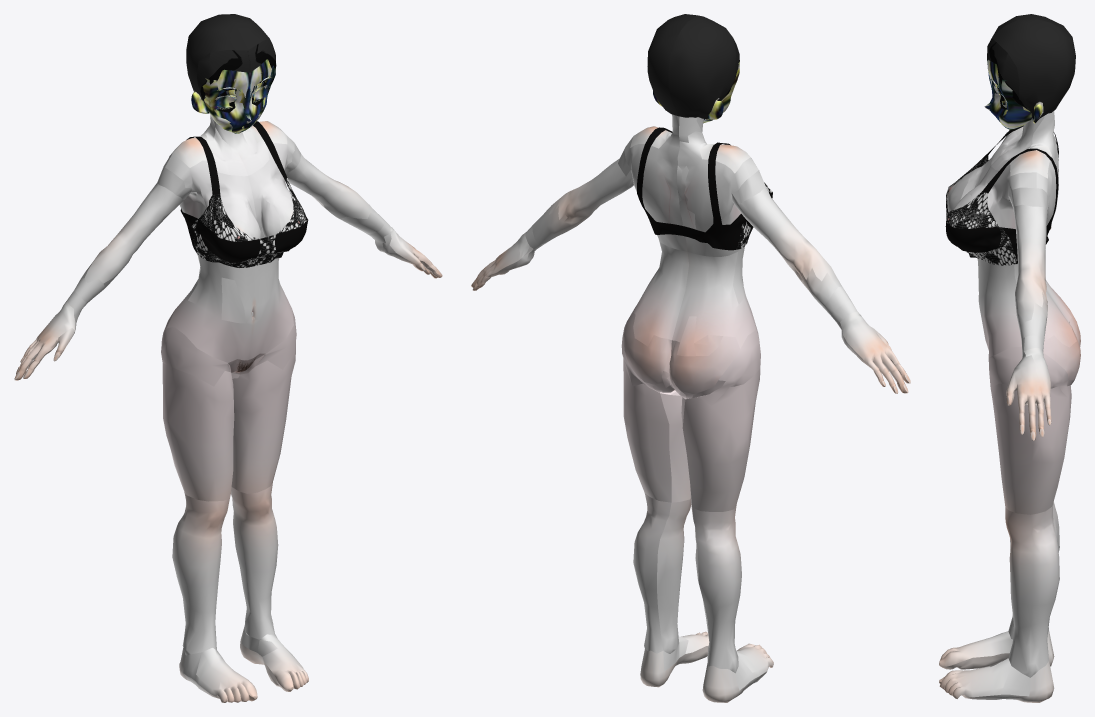
File: brassier01.obj
3 renders of one model, left to right at view 1: azimuth 30°, elevation 25°; view 2: azimuth 150°, elevation 25°; view 3: azimuth 270°, elevation 25°, orthographic. The views are drawn at different scales.
Parts seen in each view (by area): view 1: object 13, Pattern2D_30669, Pattern2D_168235; view 2: object 13, Pattern2D_159362, Pattern2D_168239; view 3: object 13, Pattern2D_15894, Pattern2D_4297, Pattern2D_30669, Pattern2D_168232, Pattern2D_3023, Pattern2D_159362.
Part boxes in pixels (x1,y1,x2,y2): object 13: [14, 14, 442, 702]; Pattern2D_30669: [191, 218, 286, 267]; Pattern2D_168235: [218, 238, 260, 262]; object 13: [471, 14, 910, 702]; Pattern2D_159362: [643, 207, 746, 250]; Pattern2D_168239: [708, 142, 730, 224]; object 13: [939, 14, 1080, 702]; Pattern2D_15894: [956, 227, 1001, 252]; Pattern2D_4297: [956, 190, 998, 228]; Pattern2D_30669: [946, 208, 1017, 265]; Pattern2D_168232: [983, 148, 1058, 228]; Pattern2D_3023: [946, 191, 981, 228]; Pattern2D_159362: [1002, 223, 1051, 263].
Size of the model in its own units: 1.33 by 1.96 by 0.3786.
